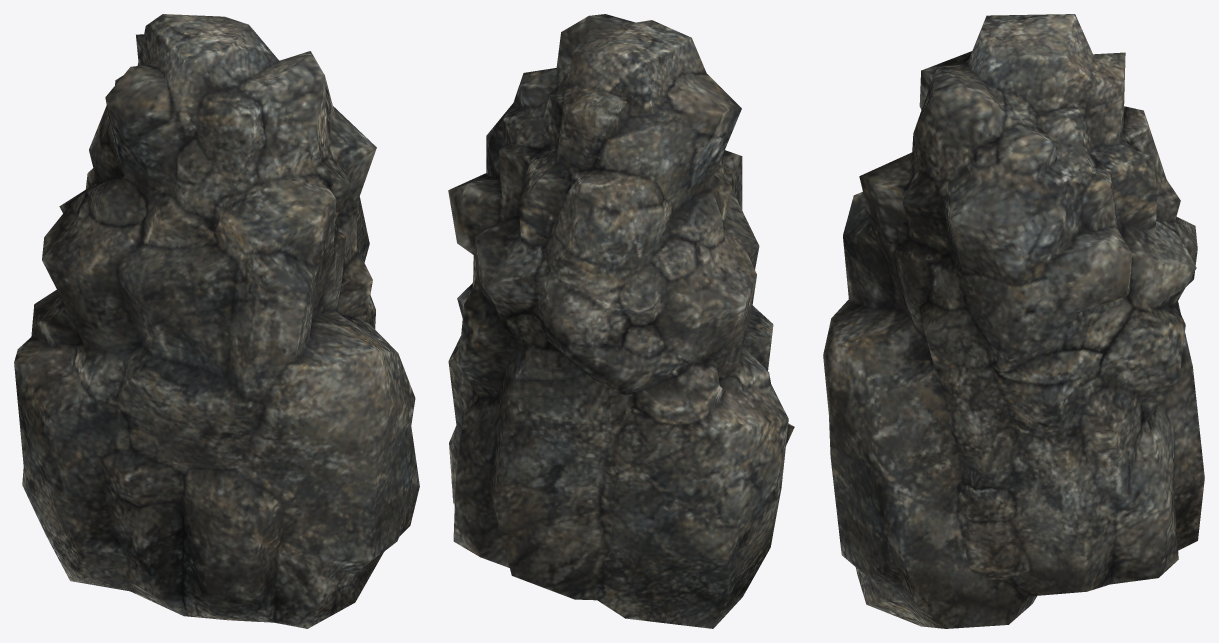
Rendered from SC_yonghengsenlin_shitou15.FBX.
The picture shows the model from 3 angles, left to right: view 1: azimuth 30°, elevation 25°; view 2: azimuth 150°, elevation 25°; view 3: azimuth 270°, elevation 25°; orthographic projection.
Parts seen in each view (by area): view 1: SC_yonghengsenlin_shitou15; view 2: SC_yonghengsenlin_shitou15; view 3: SC_yonghengsenlin_shitou15.
Part boxes in pixels (box(x1,y1,x2,y2)): SC_yonghengsenlin_shitou15: box(14, 14, 419, 628); SC_yonghengsenlin_shitou15: box(448, 14, 794, 628); SC_yonghengsenlin_shitou15: box(823, 14, 1204, 628).
Size of the model in its own units: 805 by 1338 by 818.
